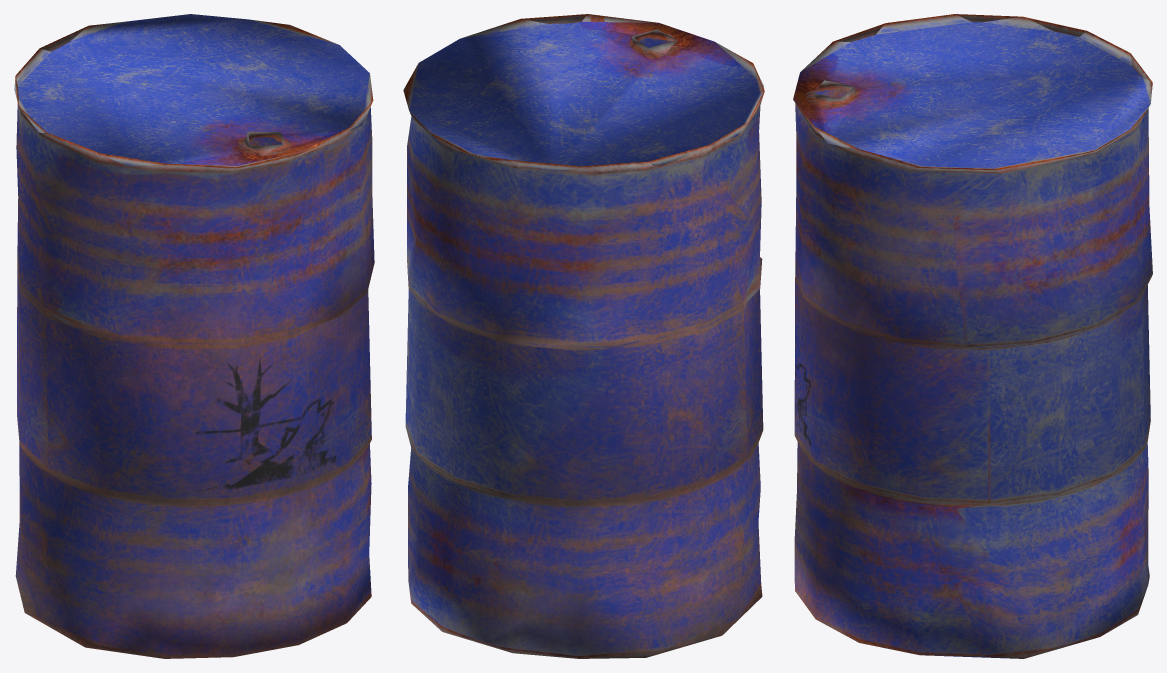
The model's file is MiskasteVio.fbx.
3 renders of one model, left to right at view 1: azimuth 30°, elevation 25°; view 2: azimuth 150°, elevation 25°; view 3: azimuth 270°, elevation 25°, orthographic.
Parts seen in each view (by area): view 1: Environment Waste Oil Barrel; view 2: Environment Waste Oil Barrel; view 3: Environment Waste Oil Barrel.
Boxes of the visible parts, bbox=[...] form: Environment Waste Oil Barrel: bbox=[14, 14, 374, 658]; Environment Waste Oil Barrel: bbox=[403, 14, 764, 658]; Environment Waste Oil Barrel: bbox=[793, 14, 1152, 658].
Size of the model in its own units: 0.5533 by 0.8438 by 0.5534.
1 material, 1 textured.
